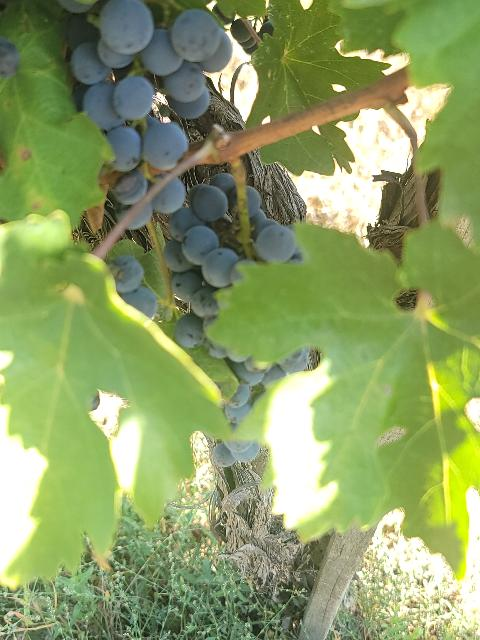grapes: (164, 172, 310, 428), (71, 0, 230, 215), (212, 441, 260, 468), (152, 179, 184, 212)
